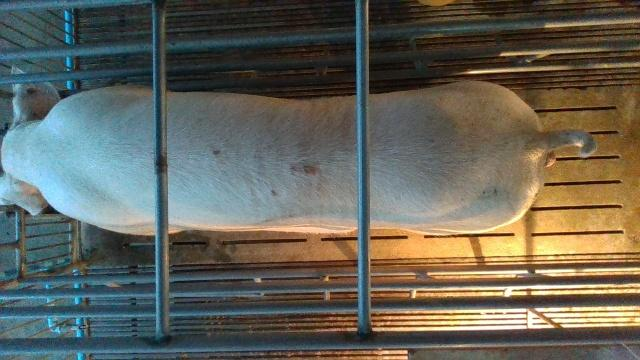sow-stand-feed: (1, 64, 597, 235)
